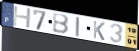3: (109, 23, 125, 45)
7: (33, 9, 48, 31)
B: (52, 13, 70, 35)
H: (12, 6, 32, 29)
I: (75, 17, 81, 38)
K: (92, 20, 106, 42)
